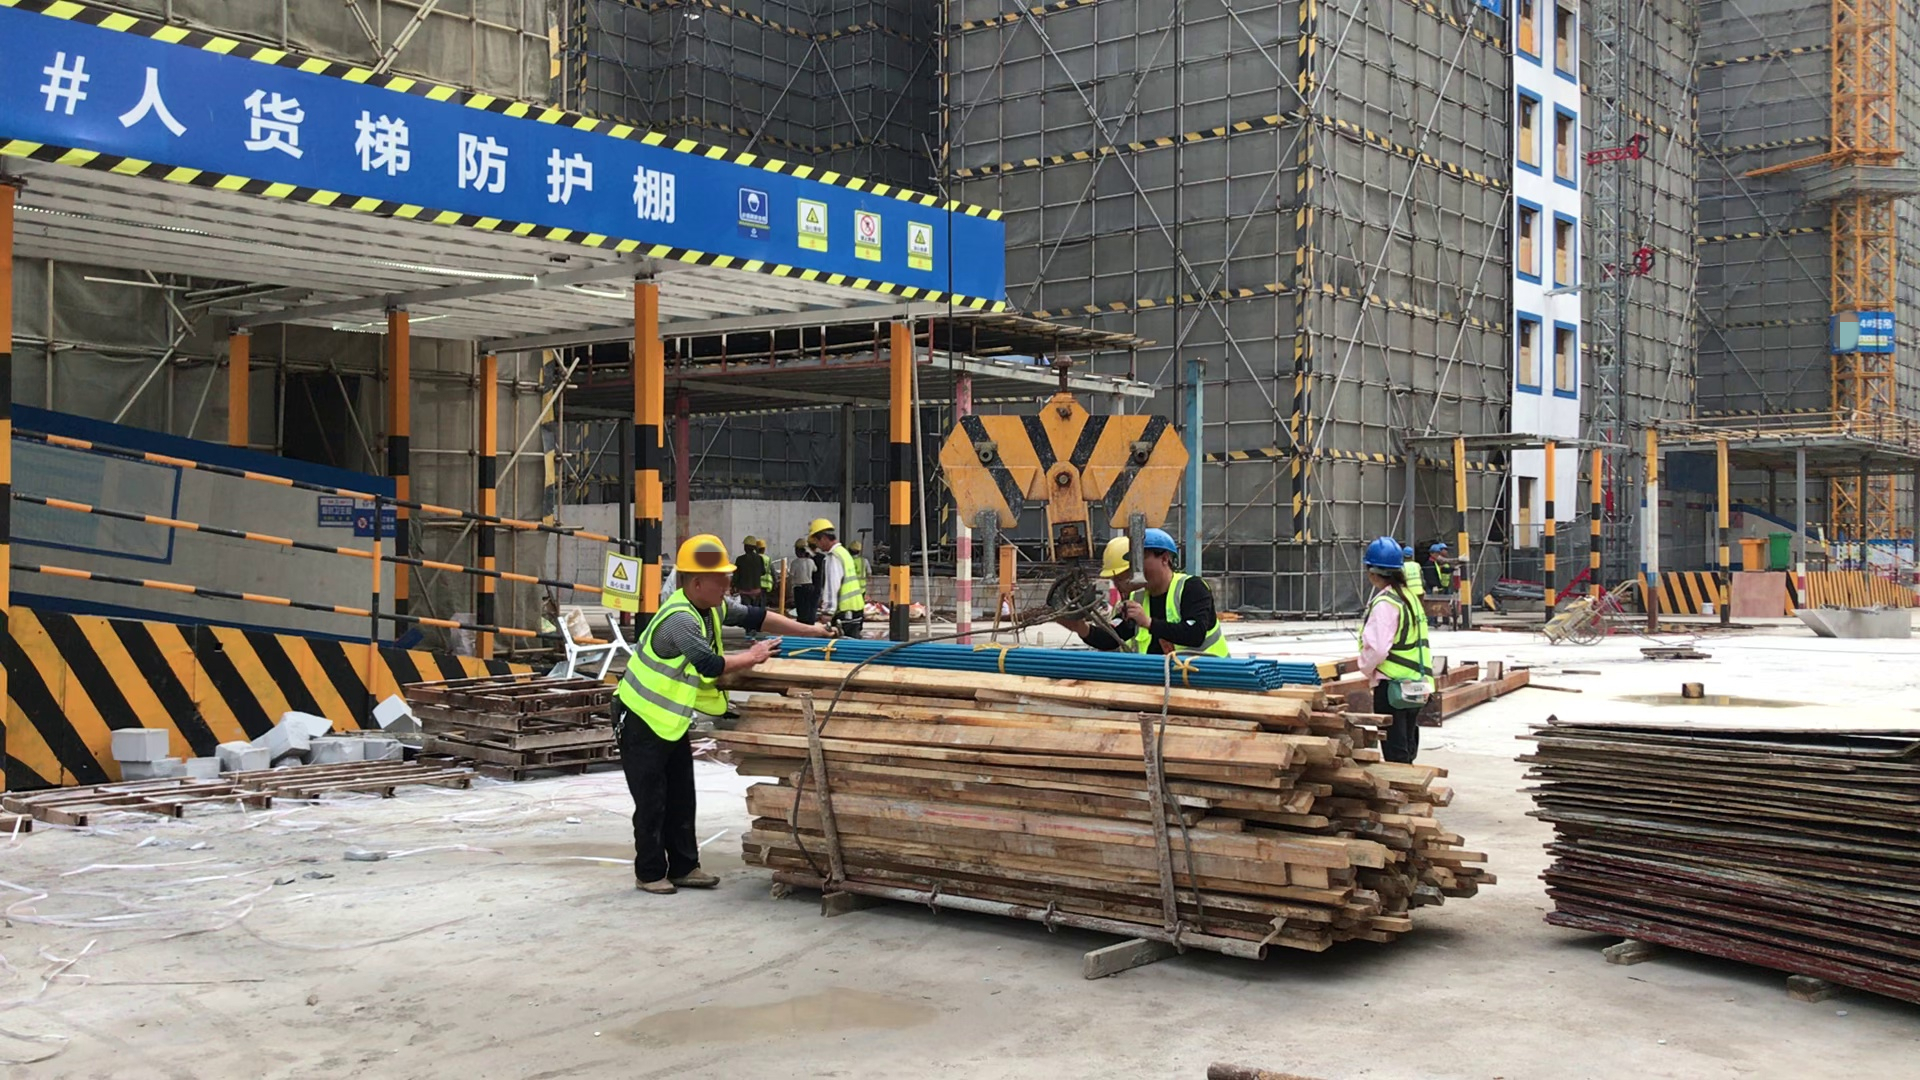board: (1531, 705, 1920, 1010)
handcart: (1536, 565, 1646, 652), (1414, 591, 1468, 634)
helmet: (674, 536, 734, 574), (1100, 536, 1131, 580), (1365, 534, 1403, 569), (1136, 527, 1177, 556), (807, 518, 835, 535), (1426, 541, 1449, 555), (1404, 542, 1415, 559), (742, 533, 756, 546), (851, 539, 864, 550), (757, 539, 767, 550)
hook: (926, 365, 1191, 599)
hopper: (1786, 600, 1920, 650)
person: (620, 528, 738, 905), (1353, 531, 1438, 767), (1105, 531, 1240, 660), (802, 515, 870, 636), (736, 529, 777, 610), (1415, 539, 1459, 589)
slogan: (738, 176, 942, 286), (597, 545, 639, 619), (1846, 312, 1905, 361)
vest: (622, 596, 733, 737), (1362, 588, 1439, 686), (1131, 587, 1229, 657), (826, 544, 864, 610), (1403, 562, 1423, 597), (759, 551, 775, 590), (1432, 562, 1454, 588)
wood: (734, 649, 1475, 959)
